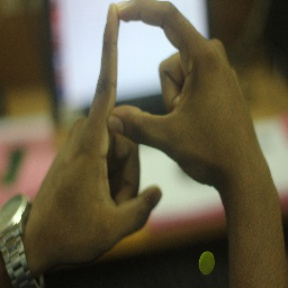D: (93, 1, 209, 155)
